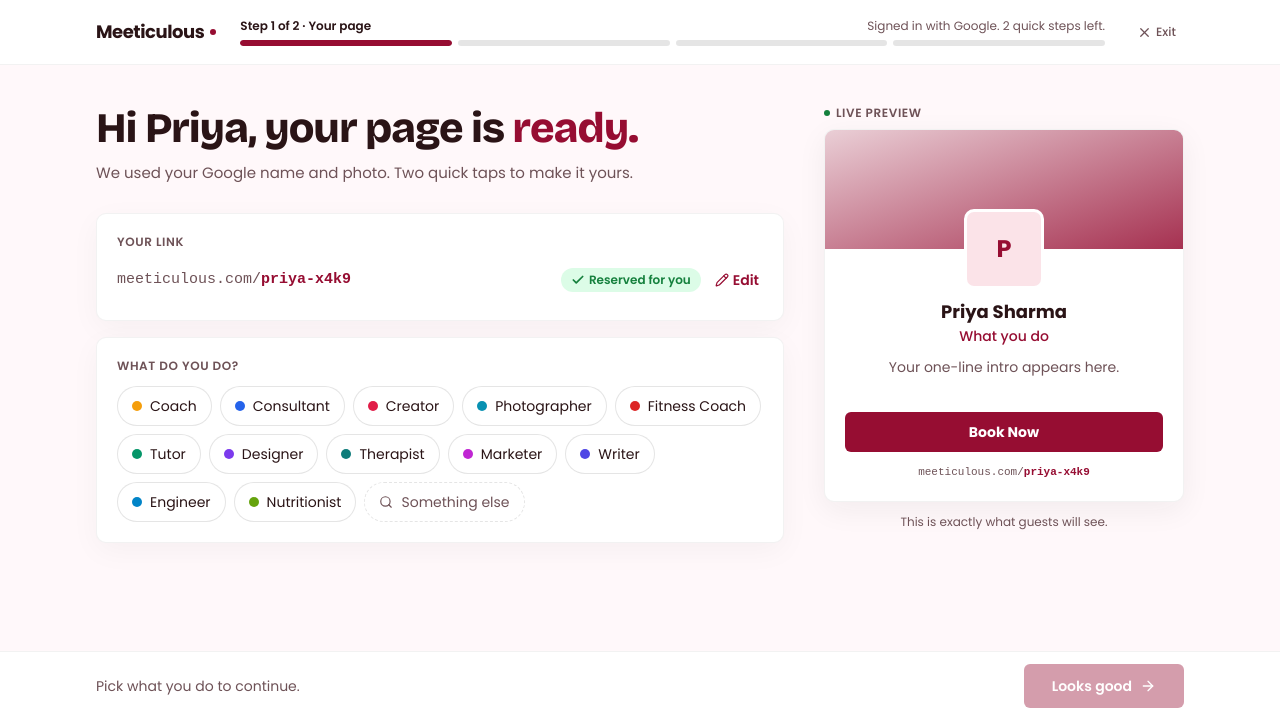
Test: PageStep — your page › Continue is blocked until a category is picked, then claims → saves → goes to service
The width and height of the screenshot is (1280, 720).
expect the button "Looks good" is disabled: met, box [1024,664,1184,708]
Click the radio button labelled "Coach" at (164, 406), box [117,386,212,426]
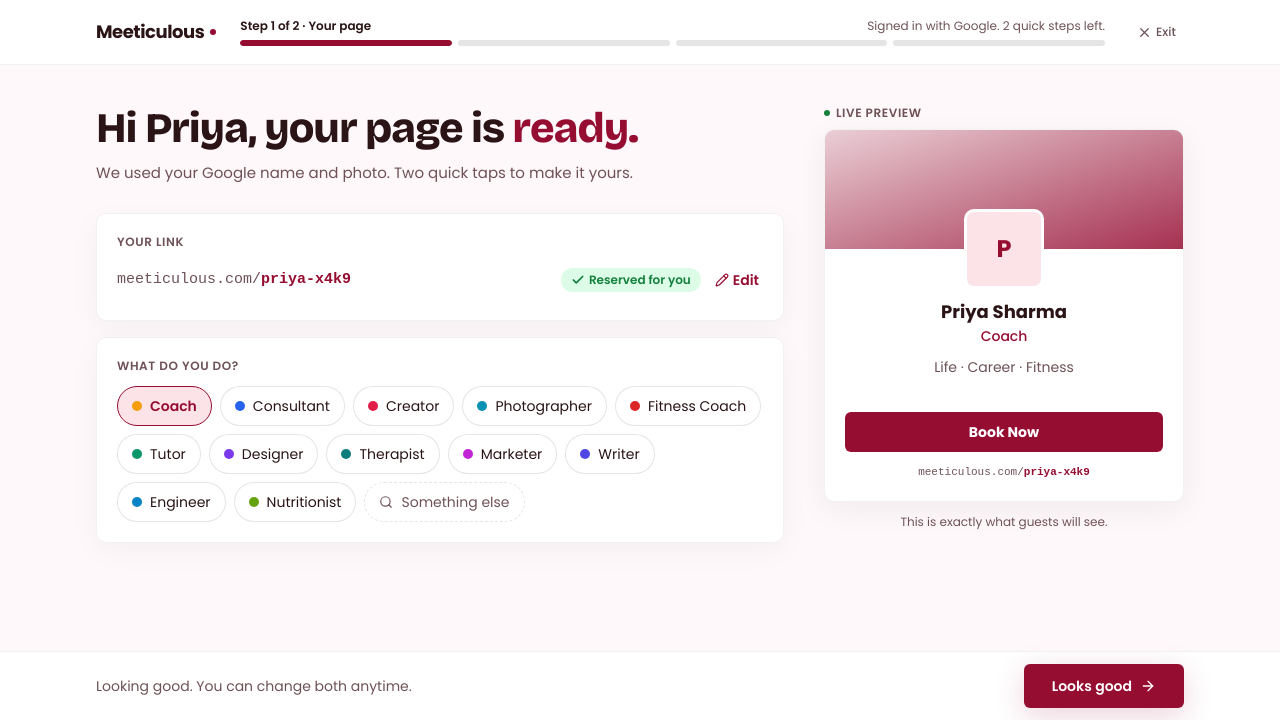
expect the button "Looks good" is enabled: met
Click the button "Looks good" at (1104, 686), box [1024,664,1184,708]
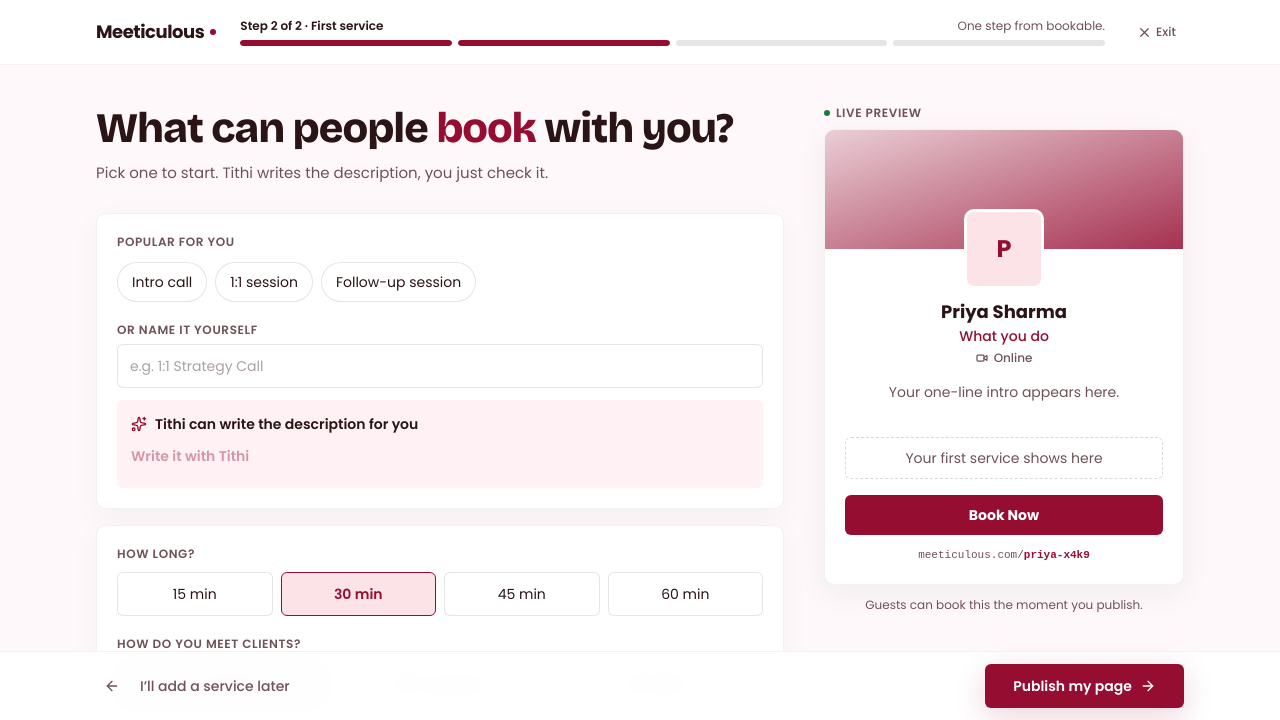
expect the button "Publish my page" is shown: met, box [985,664,1184,708]
